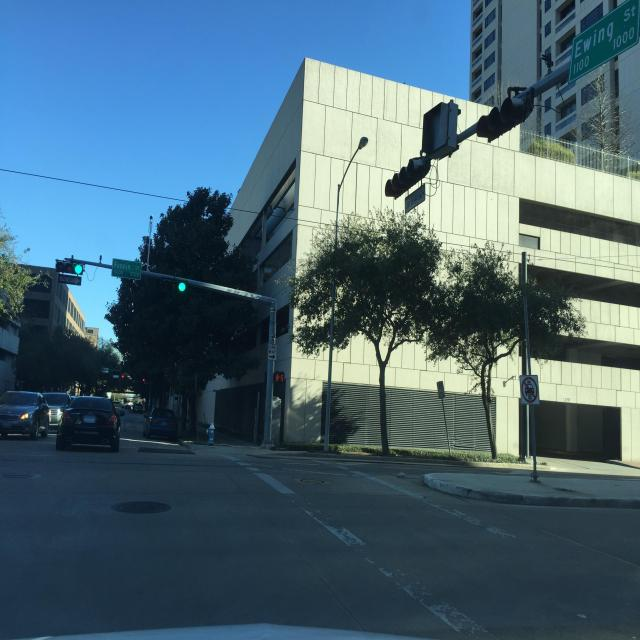Good: (110, 495, 173, 518), (1, 469, 38, 482), (295, 475, 330, 487)
